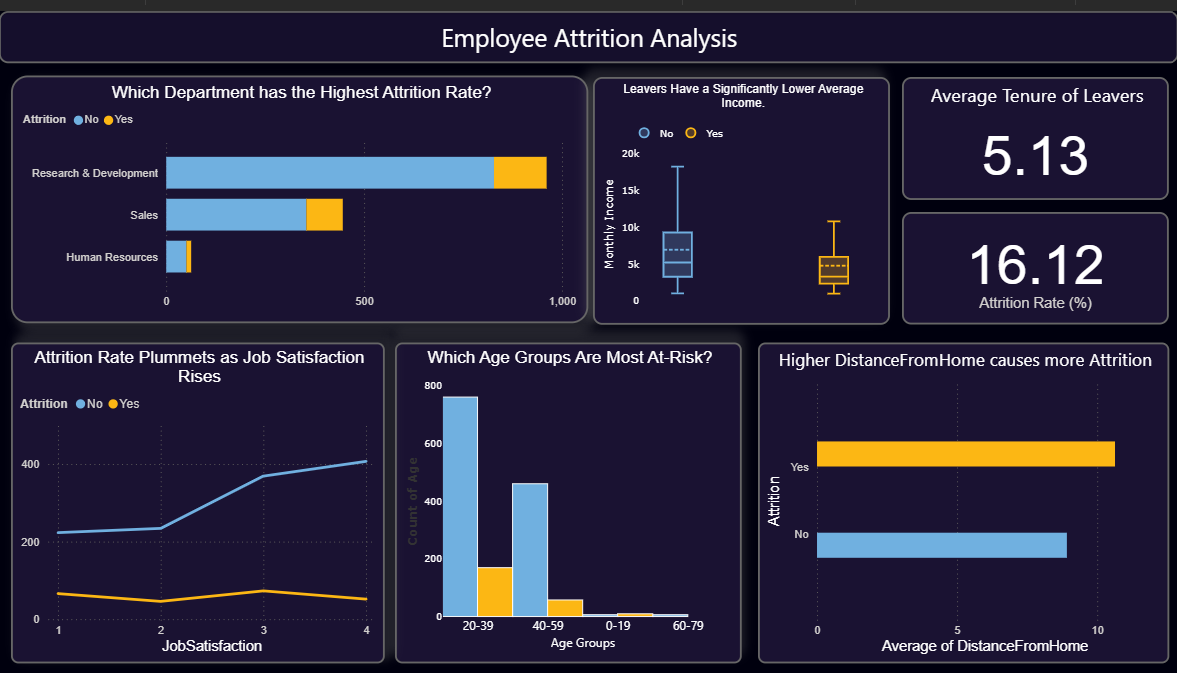

This screenshot's page, from the dashboard's own definition file:
{"tool":"powerbi","page":{"name":"Page 1","canvas":[1280,720],"ordinal":0},"visuals":[{"type":"histogramF963F133BA02A0B35D286F09F80E9C78","title":"Which Age Groups Are Most At-Risk?","fields":{"col_1":["WA_Fn-UseC_-HR-Employee-Attrition.Attrition"],"col_3":["CountNonNull(WA_Fn-UseC_-HR-Employee-Attrition.Age)"],"col_2":["WA_Fn-UseC_-HR-Employee-Attrition.AgeGroup"]},"box":[429.4,359.5,375.7,348.1],"z":0},{"type":"barChart","title":"Which Department has the Highest Attrition Rate?","fields":{"Category":["WA_Fn-UseC_-HR-Employee-Attrition.Department"],"Y":["CountNonNull(WA_Fn-UseC_-HR-Employee-Attrition.Attrition)"],"Series":["WA_Fn-UseC_-HR-Employee-Attrition.Attrition"]},"box":[13,69.9,626.2,268.4],"z":1000},{"type":"lineChart","title":"Attrition Rate Plummets as Job Satisfaction Rises","fields":{"Category":["WA_Fn-UseC_-HR-Employee-Attrition.JobSatisfaction"],"Series":["WA_Fn-UseC_-HR-Employee-Attrition.Attrition"],"Y":["CountNonNull(WA_Fn-UseC_-HR-Employee-Attrition.Attrition)"]},"box":[13,359.5,405,348.1],"z":2000},{"type":"boxandwhiskerwithpoints3B3DF5C11B683E5DB4E630DD7899B035","title":"Leavers Have a Significantly Lower Average Income.","fields":{"col_1":["WA_Fn-UseC_-HR-Employee-Attrition.Attrition"],"col_2":["WA_Fn-UseC_-HR-Employee-Attrition.MonthlyIncome"]},"box":[644.1,71.6,322.1,268.4],"z":3000},{"type":"textbox","box":[0,0,1280,56.7],"z":4000},{"type":"card","title":"Average Tenure of Leavers","fields":{"Values":["WA_Fn-UseC_-HR-Employee-Attrition.AvgYearsAtCompany_Attrition"]},"box":[979.2,71.6,289.5,133.4],"z":5000},{"type":"card","fields":{"Values":["WA_Fn-UseC_-HR-Employee-Attrition.Attrition Rate (%)"]},"box":[979.2,218,289.5,122],"z":6000},{"type":"clusteredBarChart","title":"Higher DistanceFromHome causes more Attrition","fields":{"Category":["WA_Fn-UseC_-HR-Employee-Attrition.Attrition"],"Y":["Avg(WA_Fn-UseC_-HR-Employee-Attrition.DistanceFromHome)"],"Series":["WA_Fn-UseC_-HR-Employee-Attrition.Attrition"]},"box":[823,359.5,445.7,348.1],"z":7000}]}

Visuals, with their boxes in screenshot pixels (x1, y1, x2, y2), scaled from the page's 1280x720 canvas onto the 1177x673 screenshot:
"Which Age Groups Are Most At-Risk?" histogramF963F133BA02A0B35D286F09F80E9C78: <region>395, 336, 740, 661</region>
"Which Department has the Highest Attrition Rate?" barChart: <region>12, 65, 588, 316</region>
"Attrition Rate Plummets as Job Satisfaction Rises" lineChart: <region>12, 336, 384, 661</region>
"Leavers Have a Significantly Lower Average Income." boxandwhiskerwithpoints3B3DF5C11B683E5DB4E630DD7899B035: <region>592, 67, 888, 318</region>
textbox: <region>0, 0, 1176, 53</region>
"Average Tenure of Leavers" card: <region>900, 67, 1167, 192</region>
card - WA_Fn-UseC_-HR-Employee-Attrition.Attrition Rate (%): <region>900, 204, 1167, 318</region>
"Higher DistanceFromHome causes more Attrition" clusteredBarChart: <region>757, 336, 1167, 661</region>
